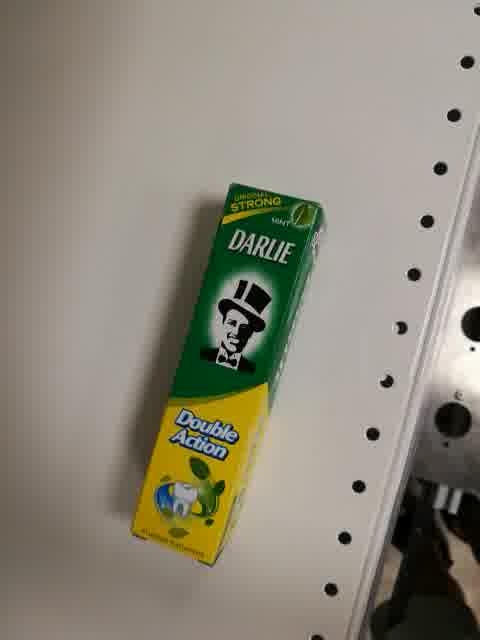toothpaste: (129, 180, 328, 569)
